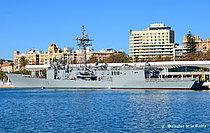MIL_Ship: (4, 24, 206, 91)
